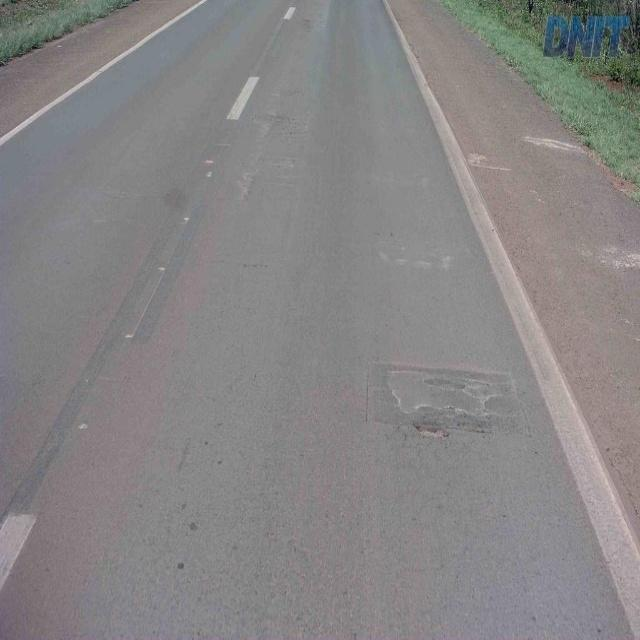pothole: (409, 416, 454, 444)
